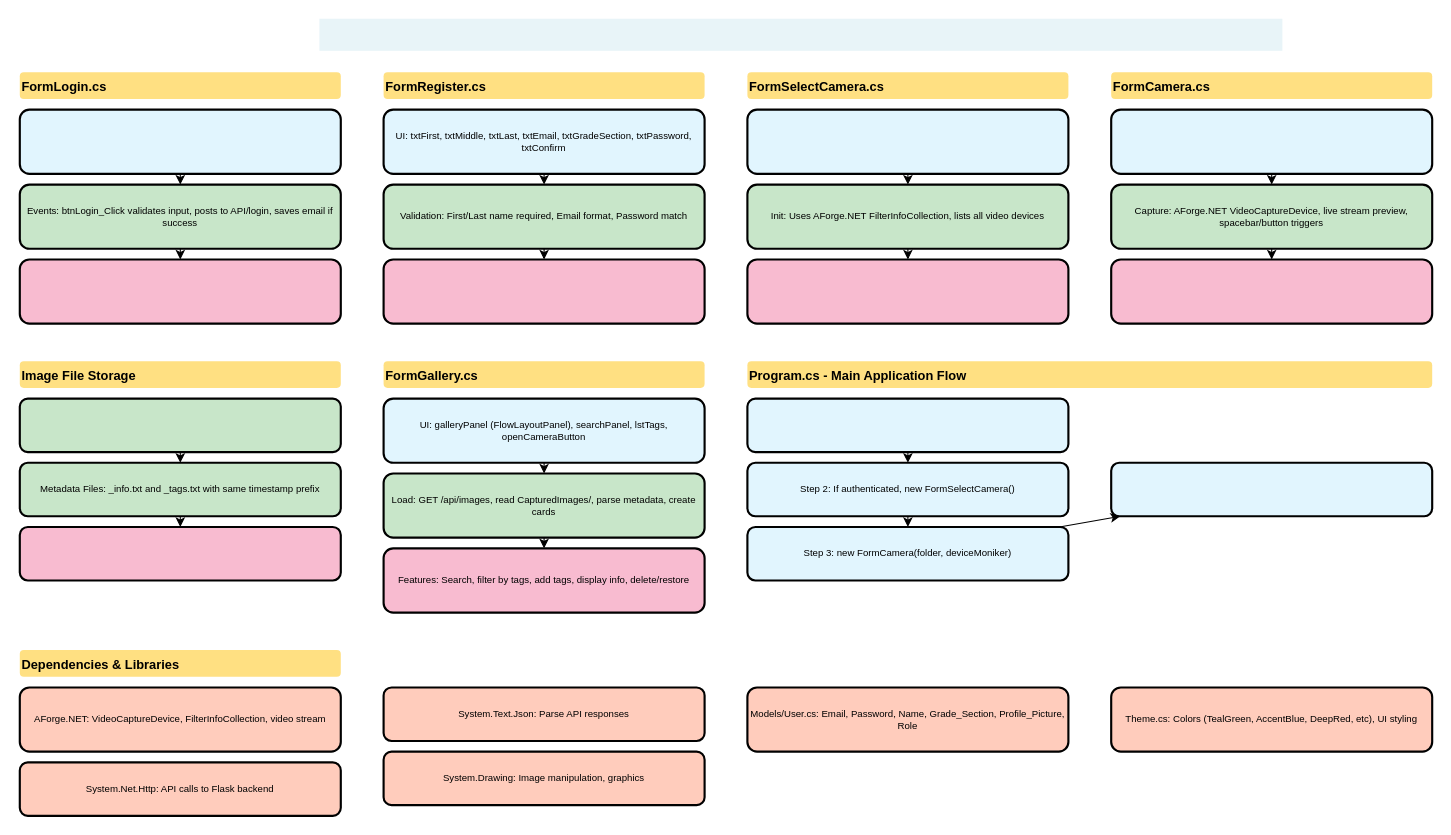
The diagram is 1451 pixels wide and 835 high, and some of its shapes have lost their labels. Each missing label, with the box of its shape:
Location: CapturedImages/ folder in application directory: (18, 525, 341, 581)
Naming: photo_YYYYMMDD_HHMMSS_claimant.jpg: (18, 397, 341, 453)
Result: AuthenticatedUser set, proceed to FormSelectCamera or show error: (18, 258, 341, 324)
Result: Returns SelectedDeviceMoniker to Program.cs: (746, 258, 1069, 324)
ReturnPoint Desktop App Forms - Detailed Flow: (319, 18, 1282, 50)
Save: JPEG format, timestamp filename, fires PhotoSaved event: (1110, 258, 1433, 324)
Step 1: new FormLogin() ShowDialog(): (746, 397, 1069, 453)
Step 4: new FormGallery() - loop/exit: (1110, 461, 1433, 517)
Submit: POST to API/register, combine names, auto-login if success: (382, 258, 705, 324)
UI Components: txtEmail, txtPassword, btnLogin, btnRegister, btnCancel, lblMsg: (18, 108, 341, 174)
UI: lblTitle, deviceListBox (enumerated cameras), btnSelect, btnCancel: (746, 108, 1069, 174)
UI: livePreview (PictureBox), countdownLabel, Timer for countdown: (1110, 108, 1433, 174)
